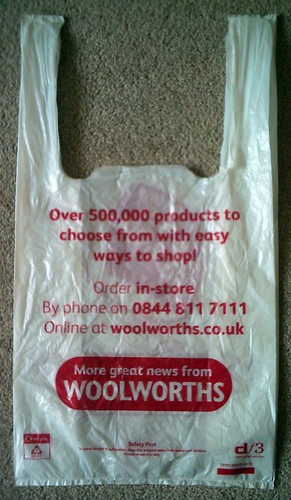plastic bag: (14, 14, 279, 488)
